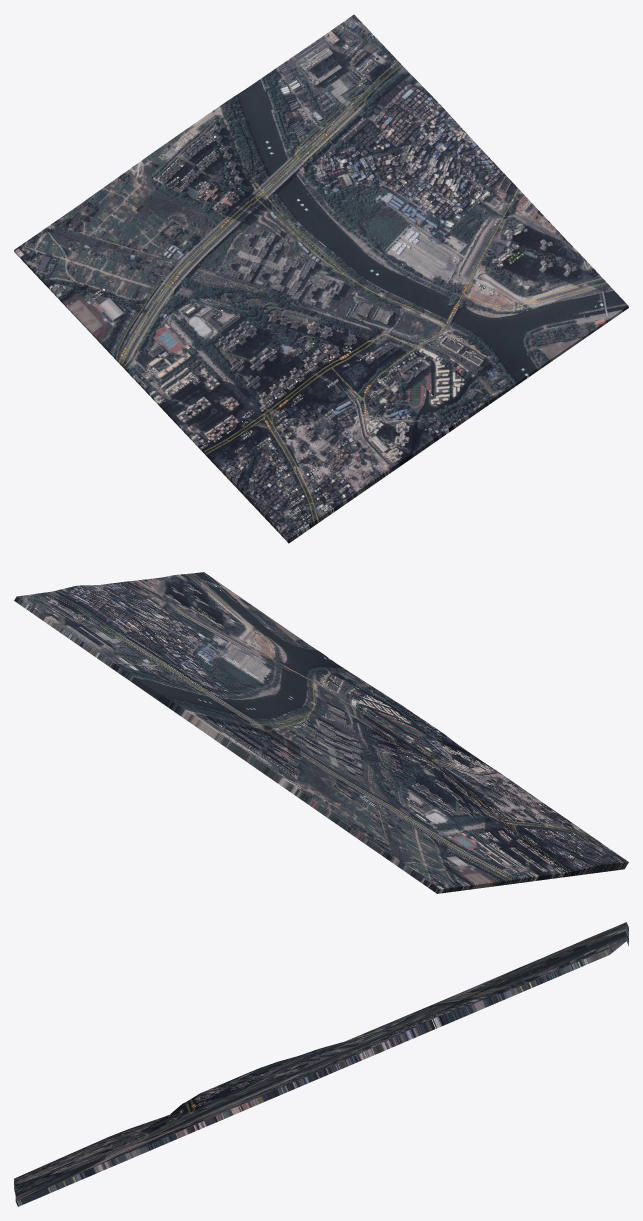
3 renders of one model, top to bottom at view 1: azimuth 30°, elevation 25°; view 2: azimuth 150°, elevation 25°; view 3: azimuth 270°, elevation 25°, orthographic. The views are drawn at different scales.
Parts seen in each view (by area): view 1: 1_9_1; view 2: 1_9_1; view 3: 1_9_1.
Boxes of the visible parts, x1,y1,x2,y2 form: 1_9_1: (14,14,628,543); 1_9_1: (14,572,628,893); 1_9_1: (14,922,628,1206).
Bounding box in the file's own units: 1227 × 891 × 1127.
1 material, 1 textured.
